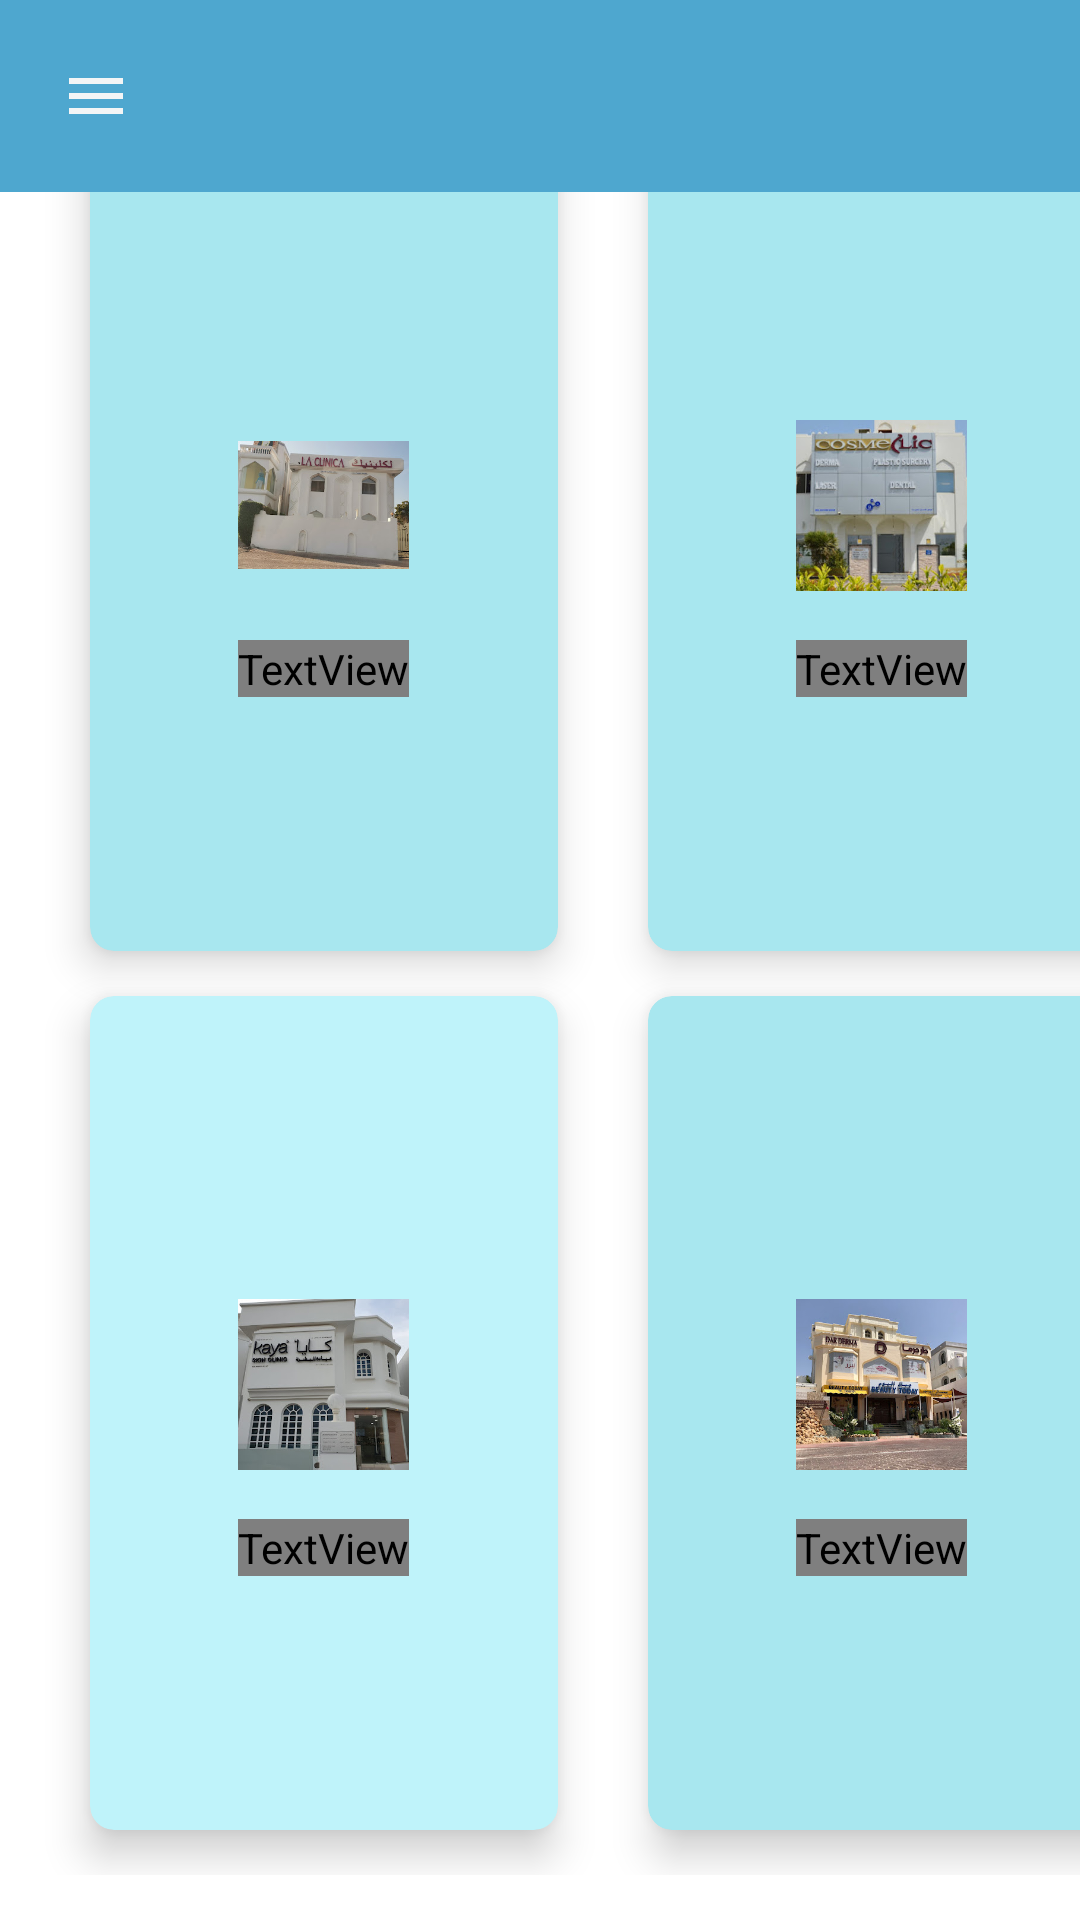

Icons on this 1080 × 1920 Android screen, each with its box as (x1, y1, x2, y2):
menu: (69, 78, 123, 114)
